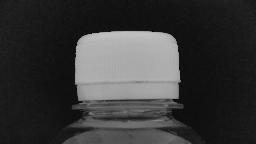Good Cap: (66, 27, 188, 115)
